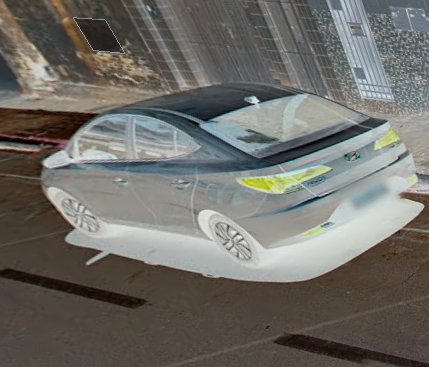car: (35, 78, 422, 278)
